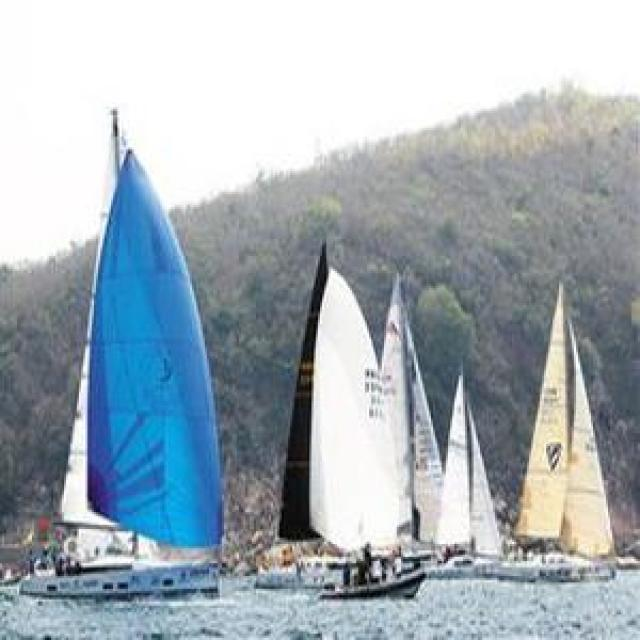sailboat: (19, 100, 227, 602), (284, 242, 425, 602), (506, 284, 621, 590), (373, 264, 442, 574), (429, 367, 507, 580)
